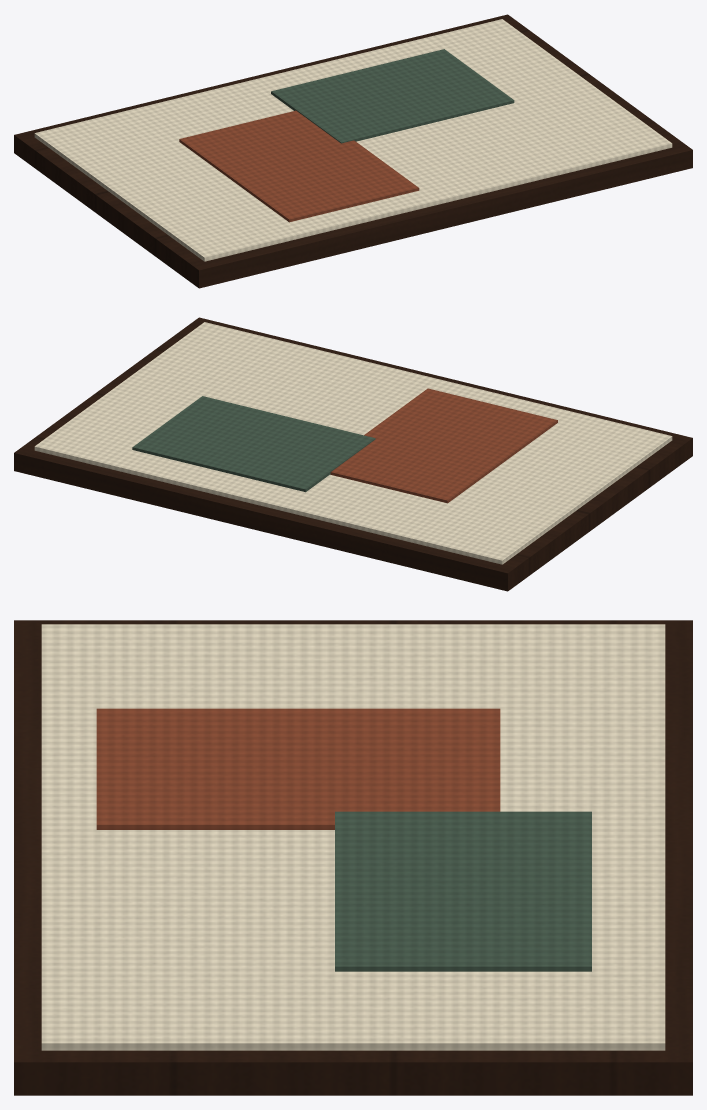
File: art_master.obj
3 renders of one model, top to bottom at view 1: azimuth 30°, elevation 25°; view 2: azimuth 150°, elevation 25°; view 3: azimuth 270°, elevation 25°, orthographic. The views are drawn at different scales.
Parts seen in each view (by area): view 1: art_master_linen, art_master_walnut, art_master_clay, art_master_sage; view 2: art_master_linen, art_master_walnut, art_master_clay, art_master_sage; view 3: art_master_linen, art_master_walnut, art_master_clay, art_master_sage.
Part boxes in pixels (<box>): art_master_linen: <box>34,19,672,261</box>; art_master_walnut: <box>14,14,692,288</box>; art_master_clay: <box>179,110,419,222</box>; art_master_sage: <box>271,49,514,143</box>; art_master_linen: <box>34,322,672,564</box>; art_master_walnut: <box>14,317,692,591</box>; art_master_clay: <box>330,388,557,503</box>; art_master_sage: <box>132,396,375,492</box>; art_master_linen: <box>41,624,665,1050</box>; art_master_walnut: <box>14,620,692,1095</box>; art_master_clay: <box>96,708,500,829</box>; art_master_sage: <box>335,811,591,971</box>.
Bounding box in the file's own units: 57 × 2.85 × 37.
4 materials, 4 textured.
